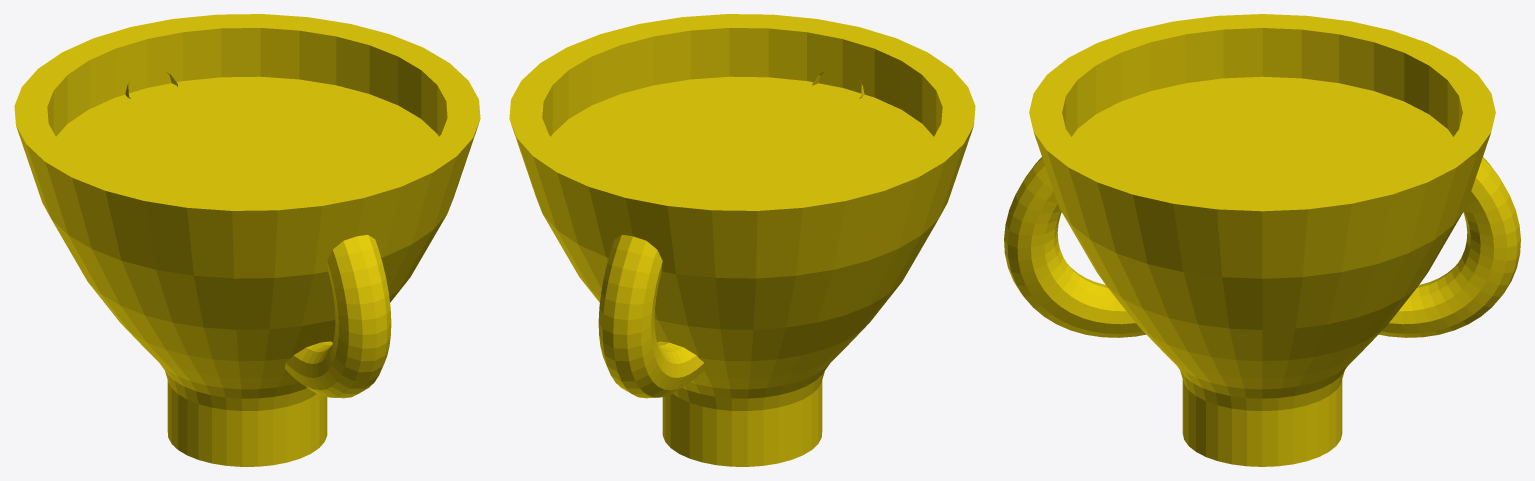
Rendered from cup.fbx.
3 renders of one model, left to right at view 1: azimuth 30°, elevation 25°; view 2: azimuth 150°, elevation 25°; view 3: azimuth 270°, elevation 25°, orthographic.
Parts seen in each view (by area): view 1: Cylinder, Torus; view 2: Cylinder, Torus; view 3: Cylinder, Torus.
Boxes of the visible parts, x1=… form: Cylinder: x1=14, y1=14, x2=480, y2=466; Torus: x1=125, y1=72, x2=391, y2=398; Cylinder: x1=509, y1=14, x2=975, y2=466; Torus: x1=598, y1=72, x2=864, y2=398; Cylinder: x1=1029, y1=14, x2=1495, y2=466; Torus: x1=1004, y1=157, x2=1520, y2=337.
Size of the model in its own units: 309 by 234 by 342.
